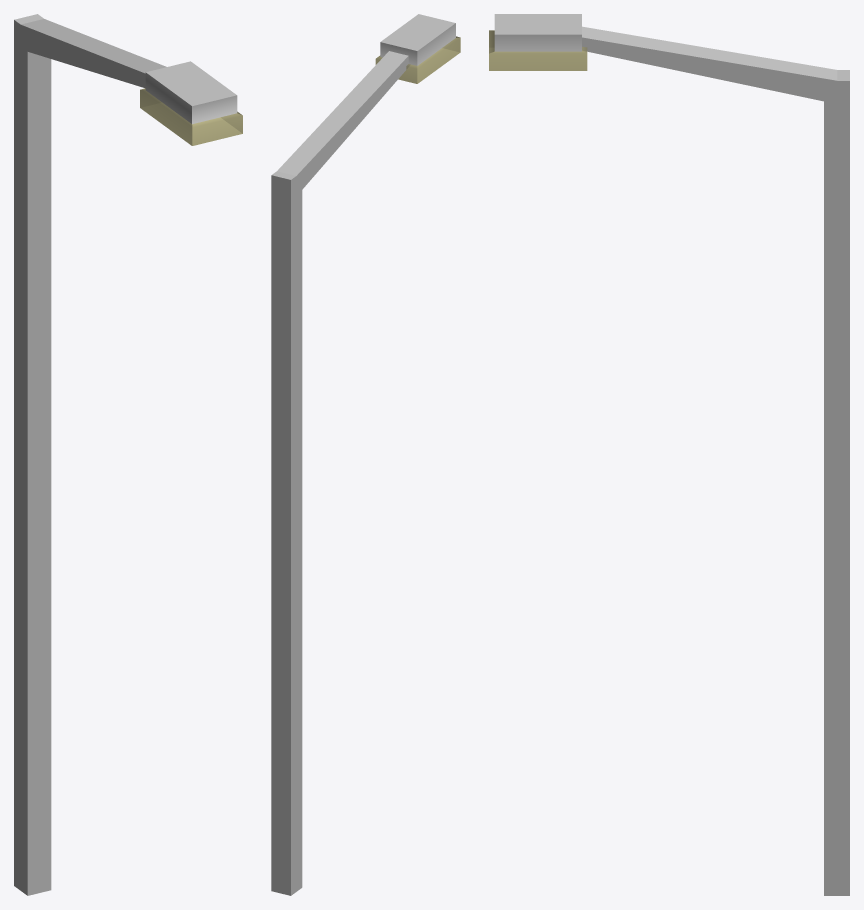
The model's file is streetLamp.fbx.
3 views of the same model, side by side, from view 1: azimuth 30°, elevation 25°; view 2: azimuth 150°, elevation 25°; view 3: azimuth 270°, elevation 25° (orthographic). The views are drawn at different scales.
Visible parts, largest first — view 1: pCube1, pCube3, pCube2; view 2: pCube1, pCube2, pCube3; view 3: pCube1, pCube2, pCube3.
Part boxes in pixels (x1,y1,x2,y2): pCube1: (14,14,51,895); pCube3: (140,61,242,145); pCube2: (16,19,166,88); pCube1: (271,171,302,895); pCube2: (277,51,410,197); pCube3: (375,14,460,83); pCube1: (824,70,849,895); pCube2: (582,26,847,104); pCube3: (489,14,587,70).
Bounding box in the file's own units: 21.42 × 372 × 140.
